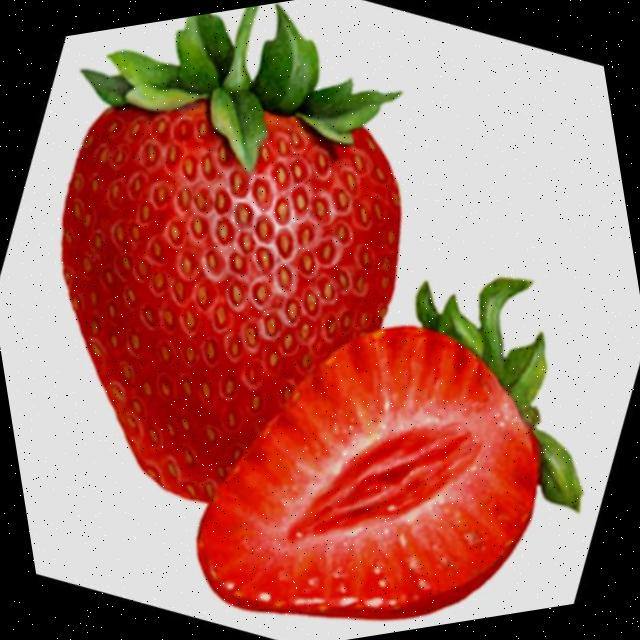strawberry: (63, 6, 401, 500), (198, 277, 582, 618)
